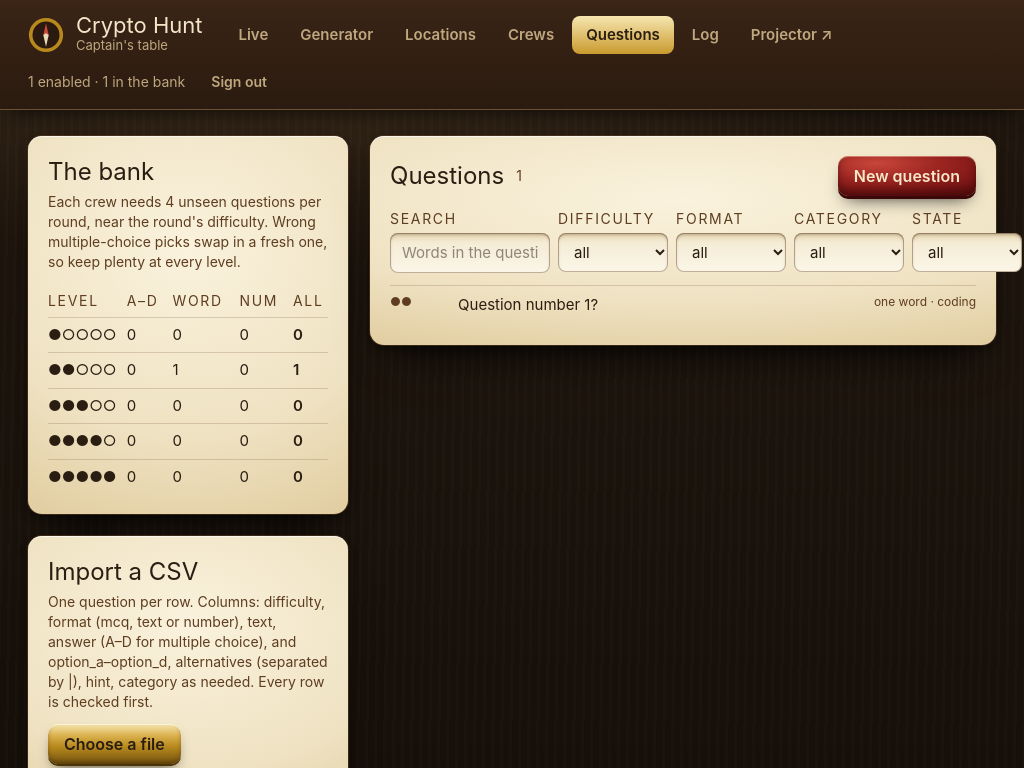
Test case: question bank page (T-501) › opening a question loads its answer once; a held question's refusal is explained
Click the button with aria-label "Edit: Question number 1?".
click(528, 304)  # box [390, 286, 976, 324]
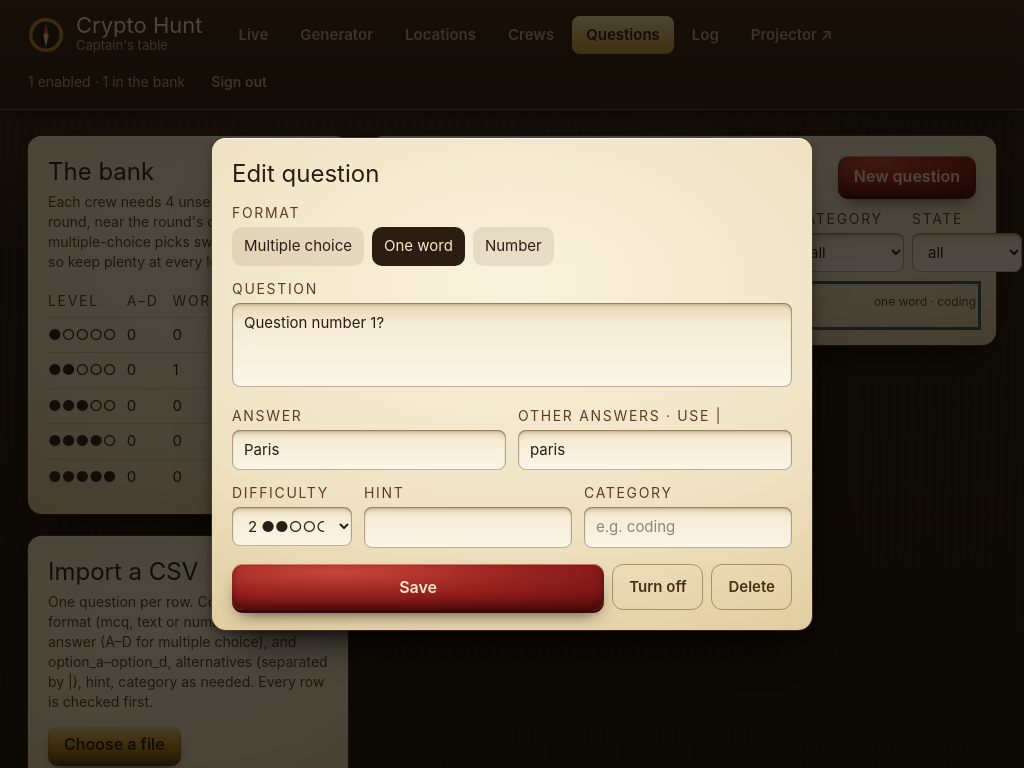
Expected: the field labelled "ANSWER" holds "Paris", [232, 430, 506, 470]
Click the button "Save".
click(418, 587)  # box [232, 564, 604, 610]
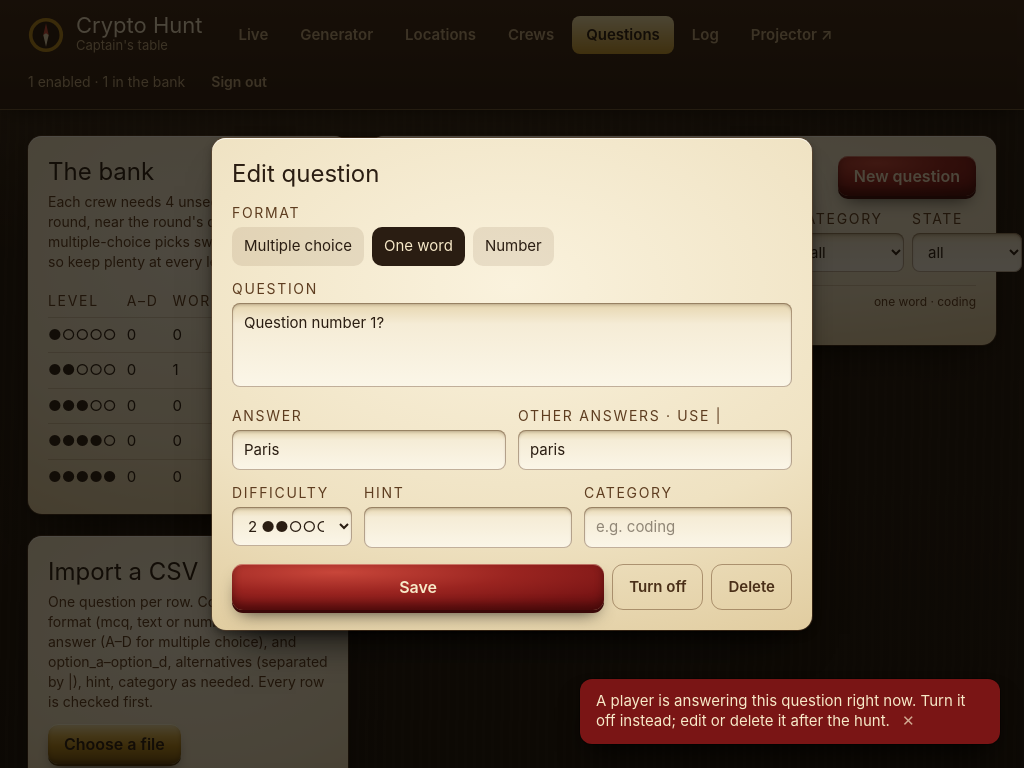
Expected: the text "answering this question right now" is shown, [596, 691, 966, 730]
